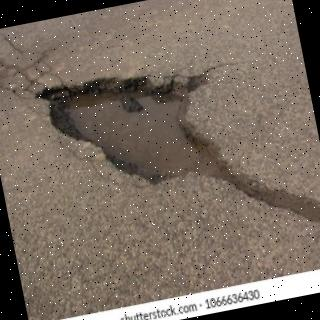pothole: (35, 74, 320, 223)
